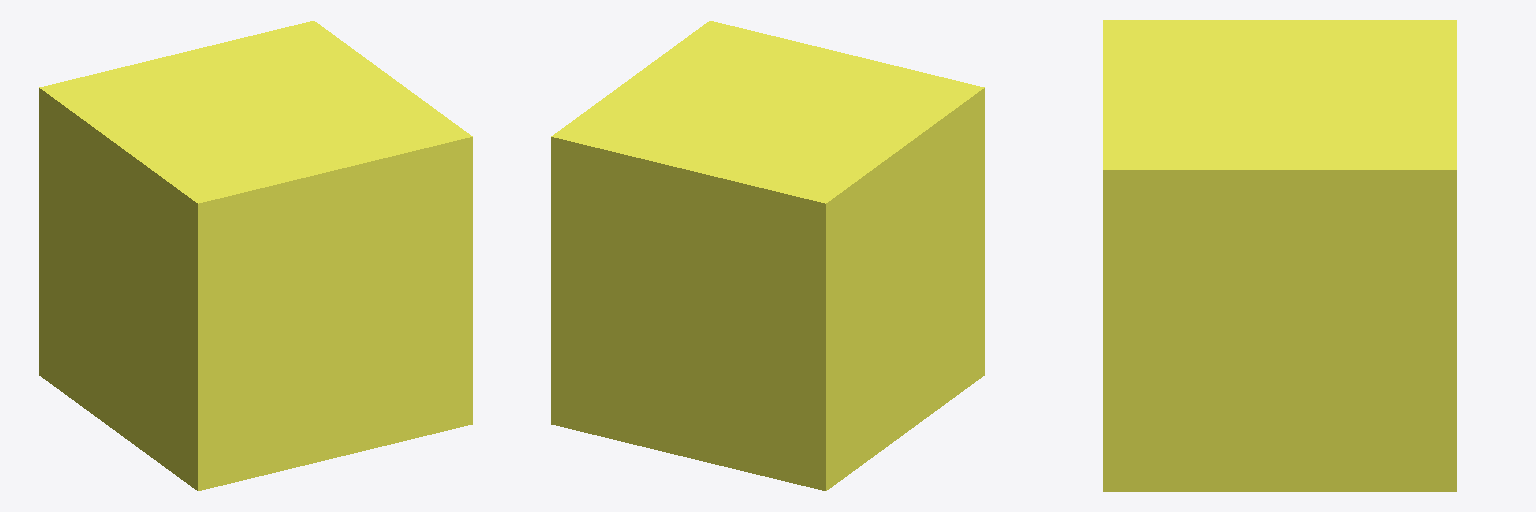
The robot description file, URDF, robot "cube.urdf":
<?xml version="1.0" ?>
<robot name="cube.urdf">
  <link name="cube">
    <contact>
      <lateral_friction value="1.0"/>
      <rolling_friction value="0.0"/>
      <contact_cfm value="0.0"/>
      <contact_erp value="1.0"/>
    </contact>
    <inertial>
      <origin rpy="0 0 0" xyz="0.0 0.02 0.0"/>
       <mass value="0.01"/>
       <inertia ixx="1" ixy="0" ixz="0" iyy="1" iyz="0" izz="1"/>
    </inertial>
    <visual>
      <origin rpy="0 0 0" xyz="0 0 0"/>
      <geometry>
        <box size="1 1 1"/>
      </geometry>
       <material name="yellow">
        <color rgba="1 1 0.4 1"/>
      </material>
    </visual>
    <collision>
      <origin rpy="0 0 0" xyz="0 0 0"/>
      <geometry>
        <box size="1 1 1"/>
      </geometry>
    </collision>
  </link>
</robot>

--- What the picture shows (computed from the rendered views, not written in the file) ---
Views: 3 orthographic renders of the robot side by side, from view 1: azimuth 30°, elevation 25°; view 2: azimuth 150°, elevation 25°; view 3: azimuth 270°, elevation 25°.
Model cube.urdf with 1 links and 0 joints (none), rooted at cube, posed every joint at zero.
Links seen in each view (by area): view 1: cube; view 2: cube; view 3: cube.
Link boxes in pixels (box(x1,y1,x2,y2)): cube: box(39, 21, 472, 490); cube: box(551, 21, 984, 490); cube: box(1103, 20, 1456, 491).
Size in the robot's own frame: 1 by 1 by 1 metres.
Geometry: primitives only (box / cylinder / sphere), no mesh files.